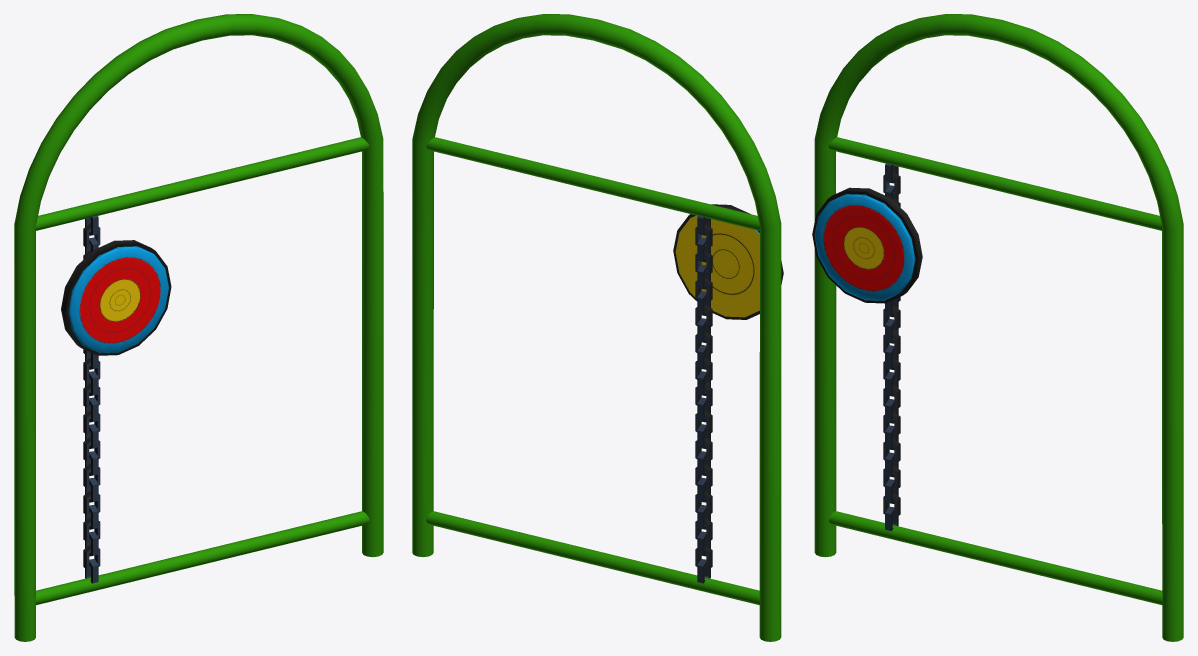
Rendered from Gate-1 (1).FBX.
3 views of the same model, side by side, from view 1: azimuth 30°, elevation 25°; view 2: azimuth 150°, elevation 25°; view 3: azimuth 330°, elevation 25° (orthographic).
Parts seen in each view (by area): view 1: Gate-2_Base001, Target-1, Gate-1; view 2: Gate-2_Base001, Target-1, Gate-1; view 3: Gate-2_Base001, Target-1, Gate-1.
Boxes of the visible parts, x1,y1,x2,y2 form: Gate-2_Base001: (14, 14, 383, 641); Target-1: (61, 240, 171, 355); Gate-1: (83, 215, 100, 583); Gate-2_Base001: (412, 14, 781, 641); Target-1: (673, 204, 783, 319); Gate-1: (695, 215, 712, 583); Gate-2_Base001: (814, 14, 1183, 641); Target-1: (812, 187, 922, 303); Gate-1: (883, 163, 900, 531).
Size of the model in its own units: 78.11 by 117 by 12.42.
Materials: 3 (2 with a texture image).
